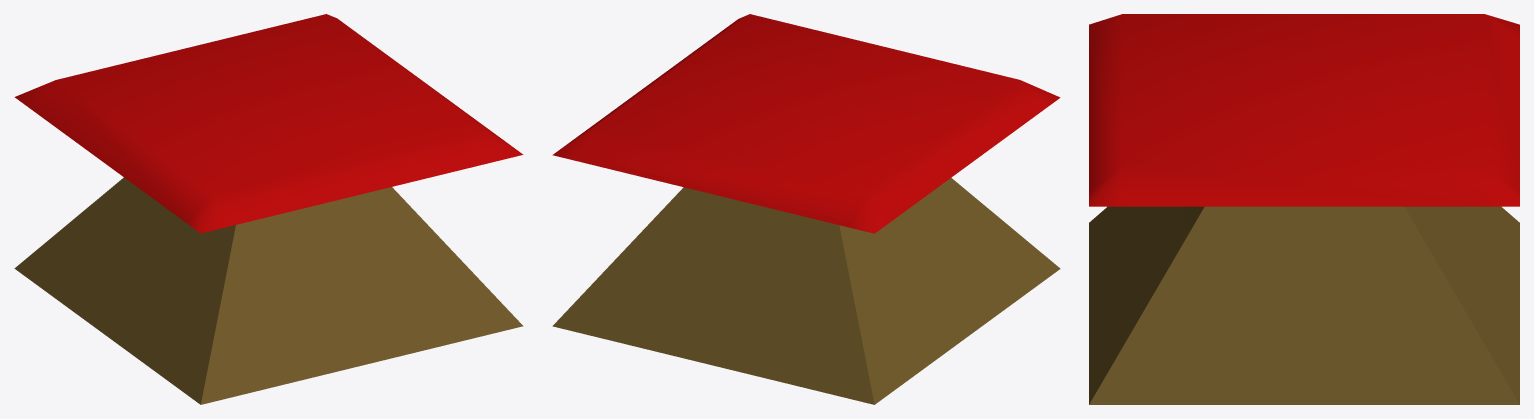
File: RightPlatform.fbx
3 renders of one model, left to right at view 1: azimuth 30°, elevation 25°; view 2: azimuth 150°, elevation 25°; view 3: azimuth 270°, elevation 25°, orthographic. The views are drawn at different scales.
Visible parts, largest first — view 1: pCube3; view 2: pCube3; view 3: pCube3.
Boxes of the visible parts, x1,y1,x2,y2 form: pCube3: (14, 14, 523, 404); pCube3: (552, 14, 1060, 404); pCube3: (1089, 14, 1519, 404).
Bounding box in the file's own units: 3.26 × 1.86 × 3.26.
